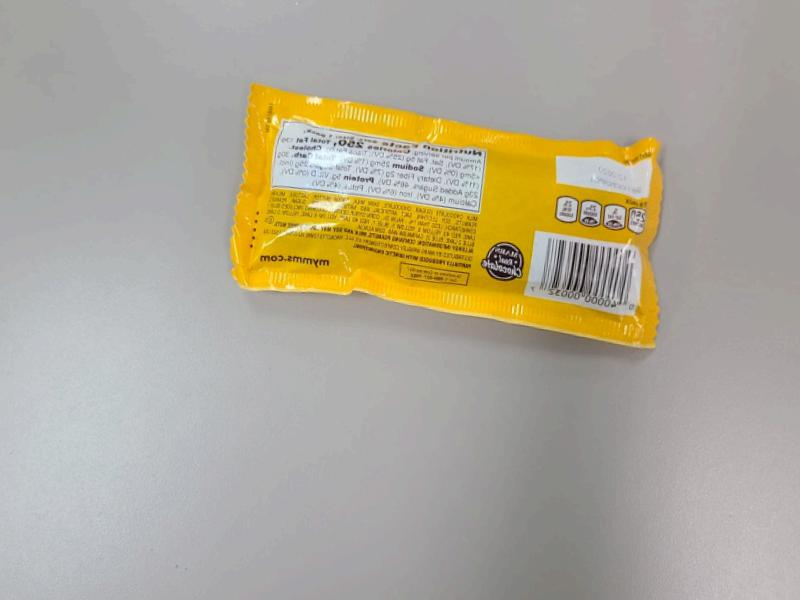m&m: (236, 88, 675, 357)
